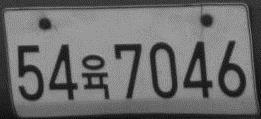0: (148, 40, 178, 99)
4: (181, 40, 214, 99), (46, 42, 78, 99)
5: (15, 43, 44, 101)
6: (216, 38, 247, 98)
7: (112, 42, 144, 101)
육: (78, 53, 111, 100)
